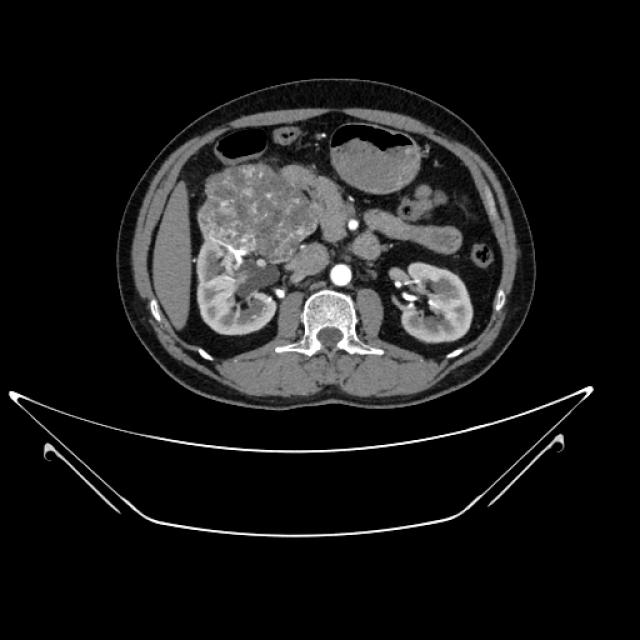Tumor: (193, 166, 359, 240)
